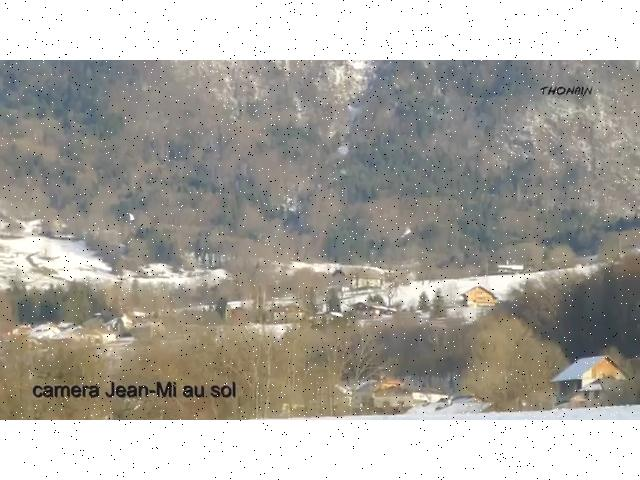Anti-Drone: (397, 217, 417, 239)
